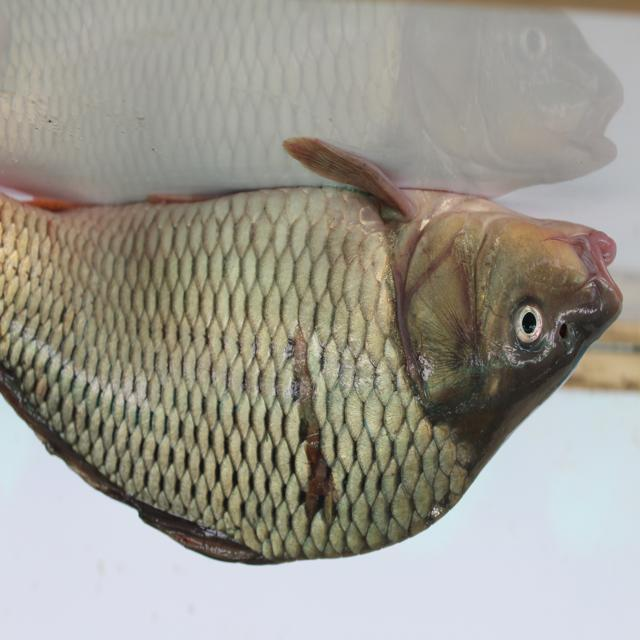CommonCarp: (4, 135, 627, 571)
